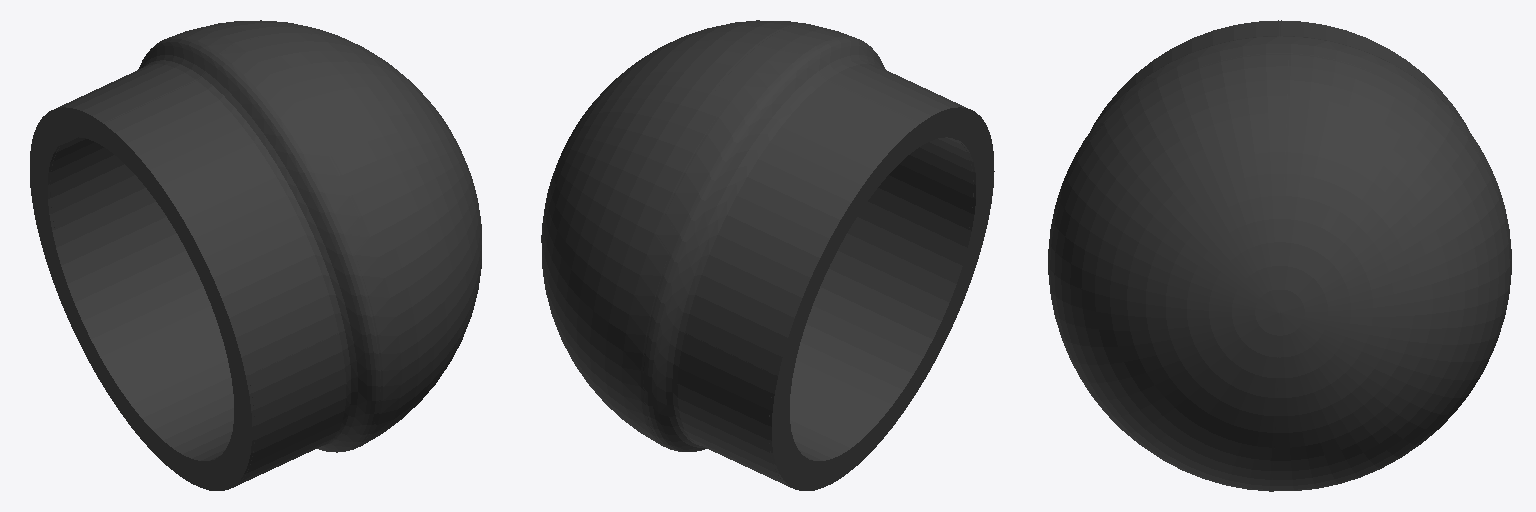
URDF robot description (go2):
<?xml version="1.0" encoding="utf-8"?>
<!--
This URDF was automatically created by SolidWorks to URDF Exporter! Originally created by
[author] ([email redacted])
Commit Version: 1.6.0-4-g7f85cfe  Build Version: 1.6.7995.38578
For more information, please see http://wiki.ros.org/sw_urdf_exporter
-->
<robot name="go2">
	<link name="base">
		<inertial>
			<origin xyz="0.021112 0 -0.005366" rpy="0 0 0" />
			<mass value="6.921" />
			<inertia ixx="0.02448" ixy="0.00012166" ixz="0.0014849" iyy="0.098077" iyz="-3.12E-05" izz="0.107" />
		</inertial>
		<visual>
			<origin xyz="0 0 0" rpy="0 0 0" />
			<geometry>
				<mesh filename="../go2_mesh/base.dae" />
			</geometry>
			<material name="">
				<color rgba="0.3 0.3 0.3 1" />
			</material>
		</visual>
		<collision>
			<origin rpy="0 0 0" xyz="0 0 0" />
			<geometry>
				<box size="0.3762 0.0935 0.114" />
			</geometry>
		</collision>
	</link>

	<!-- FL Leg Links -->
	<link name="FL_hip">
		<inertial>
			<origin xyz="-0.0054 0.00194 -0.000105" rpy="0 0 0" />
			<mass value="0.678" />
			<inertia ixx="0.00048" ixy="-3.01E-06" ixz="1.11E-06" iyy="0.000884" iyz="-1.42E-06" izz="0.000596" />
		</inertial>
		<visual>
			<origin xyz="0 0 0" rpy="0 0 0" />
			<geometry>
				<mesh filename="../go2_mesh/hip.dae" />
			</geometry>
			<material name="">
				<color rgba="0.3 0.3 0.3 1" />
			</material>
		</visual>
		<collision>
			<origin rpy="1.5707963267948966 0 0" xyz="0 0.08 0" />
			<geometry>
				<cylinder length="0.04" radius="0.046" />
			</geometry>
		</collision>
	</link>
	<link name="FL_thigh">
		<inertial>
			<origin xyz="-0.00374 -0.0223 -0.0327" rpy="0 0 0" />
			<mass value="1.152" />
			<inertia ixx="0.00584" ixy="8.72E-05" ixz="-0.000289" iyy="0.0058" iyz="0.000808" izz="0.00103" />
		</inertial>
		<visual>
			<origin xyz="0 0 0" rpy="0 0 0" />
			<geometry>
				<mesh filename="../go2_mesh/thigh.dae" />
			</geometry>
			<material name="">
				<color rgba="0.3 0.3 0.3 1" />
			</material>
		</visual>
		<collision>
			<origin rpy="0 1.5707963267948966 0" xyz="0 0 -0.1065" />
			<geometry>
				<box size="0.213 0.0245 0.034" />
			</geometry>
		</collision>
	</link>
	<link name="FL_calf">
		<inertial>
			<origin xyz="0.00548 -0.000975 -0.115" rpy="0 0 0" />
			<mass value="0.154" />
			<inertia ixx="0.00108" ixy="3.4E-07" ixz="1.72E-05" iyy="0.0011" iyz="8.28E-06" izz="3.29E-05" />
		</inertial>
		<visual>
			<origin xyz="0 0 0" rpy="0 0 0" />
			<geometry>
				<mesh filename="../go2_mesh/calf.dae" />
			</geometry>
			<material name="">
				<color rgba="0.3 0.3 0.3 1" />
			</material>
		</visual>
		<visual>
			<origin xyz="0 0 0" rpy="0 0 0" />
			<geometry>
				<mesh filename="../go2_mesh/foot.dae" />
			</geometry>
			<material name="">
				<color rgba="0.3 0.3 0.3 1" />
			</material>
		</visual>
		<collision>
			<origin rpy="0 -0.21 0" xyz="0.008 0 -0.06" />
			<geometry>
				<cylinder length="0.12" radius="0.012" />
			</geometry>
		</collision>
		<collision>
			<origin xyz="0.020 0 -0.148" rpy="0 0.05 0" />
			<geometry>
				<cylinder length="0.065" radius="0.011" />
			</geometry>
		</collision>
		<collision>
			<origin xyz="0.01 0 -0.188" rpy="0 0.48 0" />
			<geometry>
				<cylinder length="0.03" radius="0.0155" />
			</geometry>
		</collision>
		<collision>
			<origin rpy="0 0 0" xyz="-0.002 0 -0.213" />
			<geometry>
				<sphere radius="0.022" />
			</geometry>
		</collision>
	</link>

	<!-- FR Leg Links -->
	<link name="FR_hip">
		<inertial>
			<origin xyz="-0.0054 -0.00194 -0.000105" rpy="0 0 0" />
			<mass value="0.678" />
			<inertia ixx="0.00048" ixy="3.01E-06" ixz="1.11E-06" iyy="0.000884" iyz="1.42E-06" izz="0.000596" />
		</inertial>
		<visual>
			<origin xyz="0 0 0" rpy="3.1415 0 0" />
			<geometry>
				<mesh filename="../go2_mesh/hip.dae" />
			</geometry>
			<material name="">
				<color rgba="0.3 0.3 0.3 1" />
			</material>
		</visual>
		<collision>
			<origin rpy="1.5707963267948966 0 0" xyz="0 -0.08 0" />
			<geometry>
				<cylinder length="0.04" radius="0.046" />
			</geometry>
		</collision>
	</link>
	<link name="FR_thigh">
		<inertial>
			<origin xyz="-0.00374 0.0223 -0.0327" rpy="0 0 0" />
			<mass value="1.152" />
			<inertia ixx="0.00584" ixy="-8.72E-05" ixz="-0.000289" iyy="0.0058" iyz="-0.000808" izz="0.00103" />
		</inertial>
		<visual>
			<origin xyz="0 0 0" rpy="0 0 0" />
			<geometry>
				<mesh filename="../go2_mesh/thigh_mirror.dae" />
			</geometry>
			<material name="">
				<color rgba="0.3 0.3 0.3 1" />
			</material>
		</visual>
		<collision>
			<origin rpy="0 1.5707963267948966 0" xyz="0 0 -0.1065" />
			<geometry>
				<box size="0.213 0.0245 0.034" />
			</geometry>
		</collision>
	</link>
	<link name="FR_calf">
		<inertial>
			<origin xyz="0.00548 0.000975 -0.115" rpy="0 0 0" />
			<mass value="0.154" />
			<inertia ixx="0.00108" ixy="-3.4E-07" ixz="1.72E-05" iyy="0.0011" iyz="-8.28E-06" izz="3.29E-05" />
		</inertial>
		<visual>
			<origin xyz="0 0 0" rpy="0 0 0" />
			<geometry>
				<mesh filename="../go2_mesh/calf_mirror.dae" />
			</geometry>
			<material name="">
				<color rgba="0.3 0.3 0.3 1" />
			</material>
		</visual>
		<visual>
			<origin xyz="0 0 0" rpy="0 0 0" />
			<geometry>
				<mesh filename="../go2_mesh/foot.dae" />
			</geometry>
			<material name="">
				<color rgba="0.3 0.3 0.3 1" />
			</material>
		</visual>
		<collision>
			<origin rpy="0 -0.2 0" xyz="0.01 0 -0.06" />
			<geometry>
				<cylinder length="0.12" radius="0.013" />
			</geometry>
		</collision>
		<collision>
			<origin xyz="0.020 0 -0.148" rpy="0 0.05 0" />
			<geometry>
				<cylinder length="0.065" radius="0.011" />
			</geometry>
		</collision>
		<collision>
			<origin xyz="0.01 0 -0.188" rpy="0 0.48 0" />
			<geometry>
				<cylinder length="0.03" radius="0.0155" />
			</geometry>
		</collision>
		<collision>
			<origin rpy="0 0 0" xyz="-0.002 0 -0.213" />
			<geometry>
				<sphere radius="0.022" />
			</geometry>
		</collision>
	</link>

	<!-- RL Leg Links -->
	<link name="RL_hip">
		<inertial>
			<origin xyz="0.0054 0.00194 -0.000105" rpy="0 0 0" />
			<mass value="0.678" />
			<inertia ixx="0.00048" ixy="3.01E-06" ixz="-1.11E-06" iyy="0.000884" iyz="-1.42E-06" izz="0.000596" />
		</inertial>
		<visual>
			<origin xyz="0 0 0" rpy="0 3.1415 0" />
			<geometry>
				<mesh filename="../go2_mesh/hip.dae" />
			</geometry>
			<material name="">
				<color rgba="0.3 0.3 0.3 1" />
			</material>
		</visual>
		<collision>
			<origin rpy="1.5707963267948966 0 0" xyz="0 0.08 0" />
			<geometry>
				<cylinder length="0.04" radius="0.046" />
			</geometry>
		</collision>
	</link>
	<link name="RL_thigh">
		<inertial>
			<origin xyz="-0.00374 -0.0223 -0.0327" rpy="0 0 0" />
			<mass value="1.152" />
			<inertia ixx="0.00584" ixy="8.72E-05" ixz="-0.000289" iyy="0.0058" iyz="0.000808" izz="0.00103" />
		</inertial>
		<visual>
			<origin xyz="0 0 0" rpy="0 0 0" />
			<geometry>
				<mesh filename="../go2_mesh/thigh.dae" />
			</geometry>
			<material name="">
				<color rgba="0.3 0.3 0.3 1" />
			</material>
		</visual>
		<collision>
			<origin rpy="0 1.5707963267948966 0" xyz="0 0 -0.1065" />
			<geometry>
				<box size="0.213 0.0245 0.034" />
			</geometry>
		</collision>
	</link>
	<link name="RL_calf">
		<inertial>
			<origin xyz="0.00548 -0.000975 -0.115" rpy="0 0 0" />
			<mass value="0.154" />
			<inertia ixx="0.00108" ixy="3.4E-07" ixz="1.72E-05" iyy="0.0011" iyz="8.28E-06" izz="3.29E-05" />
		</inertial>
		<visual>
			<origin xyz="0 0 0" rpy="0 0 0" />
			<geometry>
				<mesh filename="../go2_mesh/calf.dae" />
			</geometry>
			<material name="">
				<color rgba="0.3 0.3 0.3 1" />
			</material>
		</visual>
		<visual>
			<origin xyz="0 0 0" rpy="0 0 0" />
			<geometry>
				<mesh filename="../go2_mesh/foot.dae" />
			</geometry>
			<material name="">
				<color rgba="0.3 0.3 0.3 1" />
			</material>
		</visual>		
		<collision>
			<origin rpy="0 -0.2 0" xyz="0.01 0 -0.06" />
			<geometry>
				<cylinder length="0.12" radius="0.013" />
			</geometry>
		</collision>
		<collision>
			<origin xyz="0.020 0 -0.148" rpy="0 0.05 0" />
			<geometry>
				<cylinder length="0.065" radius="0.011" />
			</geometry>
		</collision>
		<collision>
			<origin xyz="0.01 0 -0.188" rpy="0 0.48 0" />
			<geometry>
				<cylinder length="0.03" radius="0.0155" />
			</geometry>
		</collision>
		<collision>
			<origin rpy="0 0 0" xyz="-0.002 0 -0.213" />
			<geometry>
				<sphere radius="0.022" />
			</geometry>
		</collision>
	</link>

	<!-- RR Leg Links -->
	<link name="RR_hip">
		<inertial>
			<origin xyz="0.0054 -0.00194 -0.000105" rpy="0 0 0" />
			<mass value="0.678" />
			<inertia ixx="0.00048" ixy="-3.01E-06" ixz="-1.11E-06" iyy="0.000884" iyz="1.42E-06" izz="0.000596" />
		</inertial>
		<visual>
			<origin xyz="0 0 0" rpy="3.1415 3.1415 0" />
			<geometry>
				<mesh filename="../go2_mesh/hip.dae" />
			</geometry>
			<material name="">
				<color rgba="0.3 0.3 0.3 1" />
			</material>
		</visual>
		<collision>
			<origin rpy="1.5707963267948966 0 0" xyz="0 -0.08 0" />
			<geometry>
				<cylinder length="0.04" radius="0.046" />
			</geometry>
		</collision>
	</link>
	<link name="RR_thigh">
		<inertial>
			<origin xyz="-0.00374 0.0223 -0.0327" rpy="0 0 0" />
			<mass value="1.152" />
			<inertia ixx="0.00584" ixy="-8.72E-05" ixz="-0.000289" iyy="0.0058" iyz="-0.000808" izz="0.00103" />
		</inertial>
		<visual>
			<origin xyz="0 0 0" rpy="0 0 0" />
			<geometry>
				<mesh filename="../go2_mesh/thigh_mirror.dae" />
			</geometry>
			<material name="">
				<color rgba="0.3 0.3 0.3 1" />
			</material>
		</visual>
		<collision>
			<origin rpy="0 1.5707963267948966 0" xyz="0 0 -0.1065" />
			<geometry>
				<box size="0.213 0.0245 0.034" />
			</geometry>
		</collision>
	</link>
	<link name="RR_calf">
		<inertial>
			<origin xyz="0.00548 0.000975 -0.115" rpy="0 0 0" />
			<mass value="0.154" />
			<inertia ixx="0.00108" ixy="-3.4E-07" ixz="1.72E-05" iyy="0.0011" iyz="-8.28E-06" izz="3.29E-05" />
		</inertial>
		<visual>
			<origin xyz="0 0 0" rpy="0 0 0" />
			<geometry>
				<mesh filename="../go2_mesh/calf_mirror.dae" />
			</geometry>
			<material name="">
				<color rgba="0.3 0.3 0.3 1" />
			</material>
		</visual>
		<visual>
			<origin xyz="0 0 0" rpy="0 0 0" />
			<geometry>
				<mesh filename="../go2_mesh/foot.dae" />
			</geometry>
			<material name="">
				<color rgba="0.3 0.3 0.3 1" />
			</material>
		</visual>		
		<collision>
			<origin rpy="0 -0.2 0" xyz="0.01 0 -0.06" />
			<geometry>
				<cylinder length="0.12" radius="0.013" />
			</geometry>
		</collision>
		<collision>
			<origin xyz="0.020 0 -0.148" rpy="0 0.05 0" />
			<geometry>
				<cylinder length="0.065" radius="0.011" />
			</geometry>
		</collision>
		<collision>
			<origin xyz="0.01 0 -0.188" rpy="0 0.48 0" />
			<geometry>
				<cylinder length="0.03" radius="0.0155" />
			</geometry>
		</collision>
		<collision>
			<origin rpy="0 0 0" xyz="-0.002 0 -0.213" />
			<geometry>
				<sphere radius="0.022" />
			</geometry>
		</collision>
	</link>


	<!-- JOINTS -->
	<!-- FL Leg Joints -->
	<joint name="FL_hip_joint" type="revolute">
		<origin xyz="0.1934 0.0465 0" rpy="0 0 0" />
		<parent link="base" />
		<child link="FL_hip" />
		<axis xyz="1 0 0" />
		<limit lower="-1.0472" upper="1.0472" effort="23.7" velocity="30.1" />
	</joint>
	<joint name="FL_thigh_joint" type="revolute">
		<origin xyz="0 0.0955 0" rpy="0 0 0" />
		<parent link="FL_hip" />
		<child link="FL_thigh" />
		<axis xyz="0 1 0" />
		<limit lower="-1.5708" upper="3.4907" effort="23.7" velocity="30.1" />
	</joint>
	<joint name="FL_calf_joint" type="revolute">
		<origin xyz="0 0 -0.213" rpy="0 0 0" />
		<parent link="FL_thigh" />
		<child link="FL_calf" />
		<axis xyz="0 1 0" />
		<limit lower="-2.7227" upper="-0.83776" effort="45.43" velocity="15.70" />
	</joint>

	<!-- FR Leg Joints -->
	<joint name="FR_hip_joint" type="revolute">
		<origin xyz="0.1934 -0.0465 0" rpy="0 0 0" />
		<parent link="base" />
		<child link="FR_hip" />
		<axis xyz="1 0 0" />
		<limit lower="-1.0472" upper="1.0472" effort="23.7" velocity="30.1" />
	</joint>
	<joint name="FR_thigh_joint" type="revolute">
		<origin xyz="0 -0.0955 0" rpy="0 0 0" />
		<parent link="FR_hip" />
		<child link="FR_thigh" />
		<axis xyz="0 1 0" />
		<limit lower="-1.5708" upper="3.4907" effort="23.7" velocity="30.1" />
	</joint>
	<joint name="FR_calf_joint" type="revolute">
		<origin xyz="0 0 -0.213" rpy="0 0 0" />
		<parent link="FR_thigh" />
		<child link="FR_calf" />
		<axis xyz="0 1 0" />
		<limit lower="-2.7227" upper="-0.83776" effort="45.43" velocity="15.70" />
	</joint>

	<!-- RL Leg Joints -->
	<joint name="RL_hip_joint" type="revolute">
		<origin xyz="-0.1934 0.0465 0" rpy="0 0 0" />
		<parent link="base" />
		<child link="RL_hip" />
		<axis xyz="1 0 0" />
		<limit lower="-1.0472" upper="1.0472" effort="23.7" velocity="30.1" />
	</joint>
	<joint name="RL_thigh_joint" type="revolute">
		<origin xyz="0 0.0955 0" rpy="0 0 0" />
		<parent link="RL_hip" />
		<child link="RL_thigh" />
		<axis xyz="0 1 0" />
		<limit lower="-0.5236" upper="4.5379" effort="23.7" velocity="30.1" />
	</joint>
	<joint name="RL_calf_joint" type="revolute">
		<origin xyz="0 0 -0.213" rpy="0 0 0" />
		<parent link="RL_thigh" />
		<child link="RL_calf" />
		<axis xyz="0 1 0" />
		<limit lower="-2.7227" upper="-0.83776" effort="45.43" velocity="15.70" />
	</joint>

	<!-- RL Leg Joints -->
	<joint name="RR_hip_joint" type="revolute">
		<origin xyz="-0.1934 -0.0465 0" rpy="0 0 0" />
		<parent link="base" />
		<child link="RR_hip" />
		<axis xyz="1 0 0" />
		<limit lower="-1.0472" upper="1.0472" effort="23.7" velocity="30.1" />
	</joint>
	<joint name="RR_thigh_joint" type="revolute">
		<origin xyz="0 -0.0955 0" rpy="0 0 0" />
		<parent link="RR_hip" />
		<child link="RR_thigh" />
		<axis xyz="0 1 0" />
		<limit lower="-0.5236" upper="4.5379" effort="23.7" velocity="30.1" />
	</joint>
	<joint name="RR_calf_joint" type="revolute">
		<origin xyz="0 0 -0.213" rpy="0 0 0" />
		<parent link="RR_thigh" />
		<child link="RR_calf" />
		<axis xyz="0 1 0" />
		<limit lower="-2.7227" upper="-0.83776" effort="45.43" velocity="15.70" />
	</joint>

</robot>

--- Render facts (derived) ---
Views: 3 orthographic renders of the robot side by side, from view 1: azimuth 30°, elevation 25°; view 2: azimuth 150°, elevation 25°; view 3: azimuth 270°, elevation 25°.
Robot: go2 — 13 links, 12 joints (12 revolute); root link base; default pose: joints at zero except 4 at the middle of their limits (FL_calf_joint = -1.78, FR_calf_joint = -1.78, RL_calf_joint = -1.78, RR_calf_joint = -1.78).
Links seen in each view (by area): view 1: RR_calf, FR_calf, RL_calf, FL_calf; view 2: RL_calf, FL_calf, RR_calf, FR_calf; view 3: FR_calf, FL_calf, RR_calf, RL_calf.
Link boxes in pixels (x1,y1,x2,y2): RR_calf: (31,38,380,490); FR_calf: (50,34,481,489); RL_calf: (30,24,254,488); FL_calf: (197,20,381,58); RL_calf: (643,44,992,490); FL_calf: (541,39,973,489); RR_calf: (760,24,994,490); FR_calf: (636,20,805,62); FR_calf: (1048,54,1288,491); FL_calf: (1271,54,1511,491); RR_calf: (1048,20,1288,249); RL_calf: (1280,20,1511,249).
Size in the robot's own frame: 48.23 by 54.19 by 54.74 metres.
Meshes: 7 distinct files referenced, 4 mesh visuals loaded (1 Collada DAE); not drawn: 13 (reference not matched to a file when rendering).